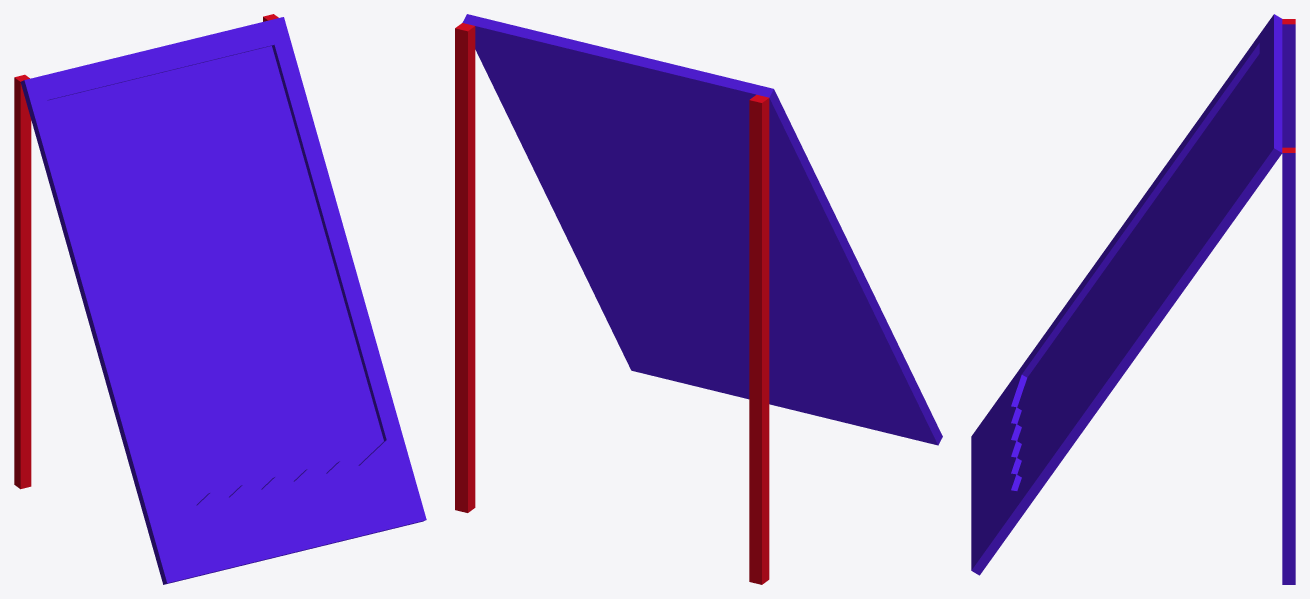
The model's file is Backdrop.fbx.
3 views of the same model, side by side, from view 1: azimuth 30°, elevation 25°; view 2: azimuth 150°, elevation 25°; view 3: azimuth 270°, elevation 25° (orthographic). The views are drawn at different scales.
Parts seen in each view (by area): view 1: Cube.001; view 2: Cube.001; view 3: Cube.001.
Boxes of the visible parts, left/top/right/bottom form: Cube.001: left=14, top=14, right=426, bottom=584; Cube.001: left=455, top=14, right=942, bottom=584; Cube.001: left=971, top=14, right=1295, bottom=584.
Bounding box in the file's own units: 200 × 303 × 204.
